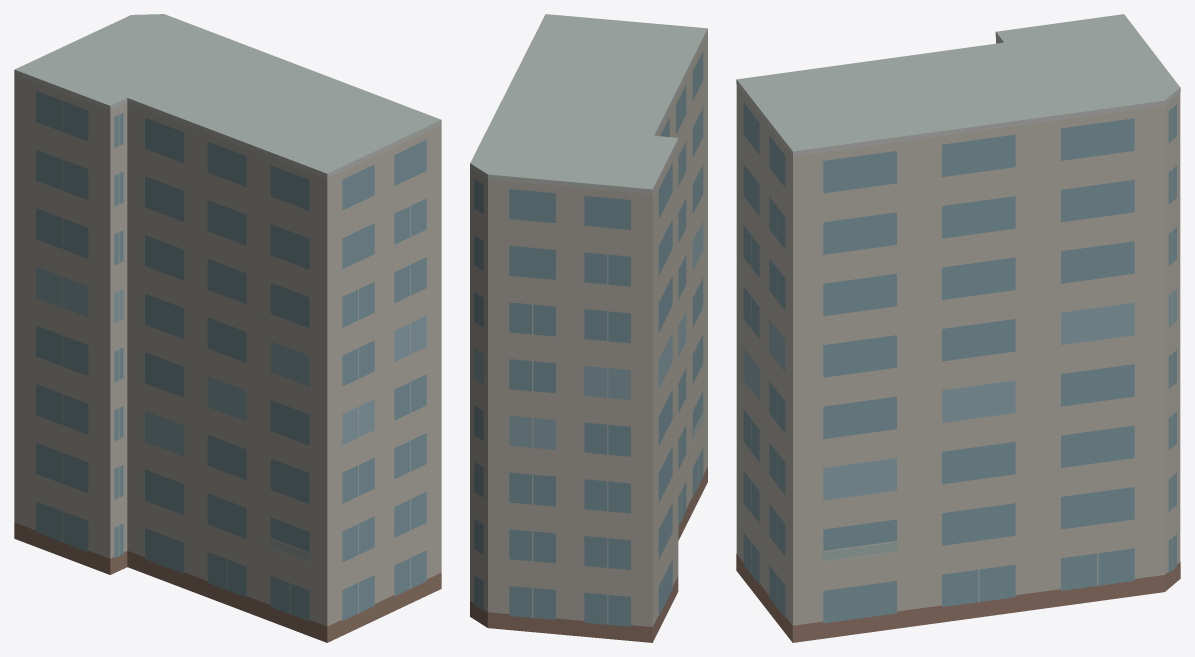
The model's file is survey-upis-32570270.glb.
3 views of the same model, side by side, from view 1: azimuth 30°, elevation 25°; view 2: azimuth 150°, elevation 25°; view 3: azimuth 270°, elevation 25° (orthographic). The views are drawn at different scales.
Parts seen in each view (by area): view 1: survey-upis-32570270.tmp; view 2: survey-upis-32570270.tmp; view 3: survey-upis-32570270.tmp.
Boxes of the visible parts, x1,y1,x2,y2 form: survey-upis-32570270.tmp: (14, 14, 441, 642); survey-upis-32570270.tmp: (470, 14, 707, 642); survey-upis-32570270.tmp: (736, 14, 1180, 642).
Size of the model in its own units: 14.11 by 23.5 by 19.24.
